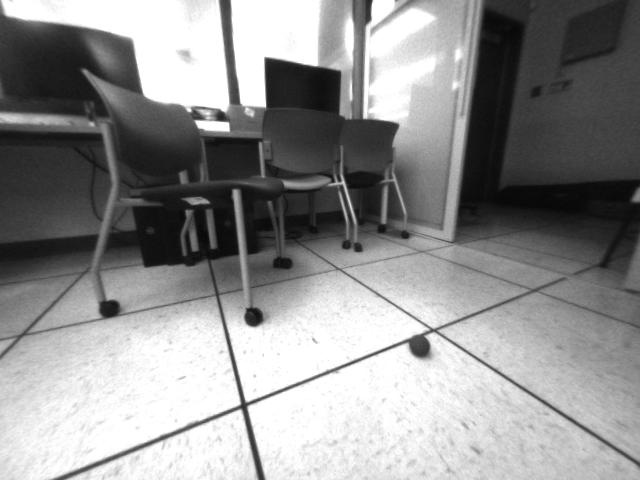dogtoy: (405, 329, 438, 362)
